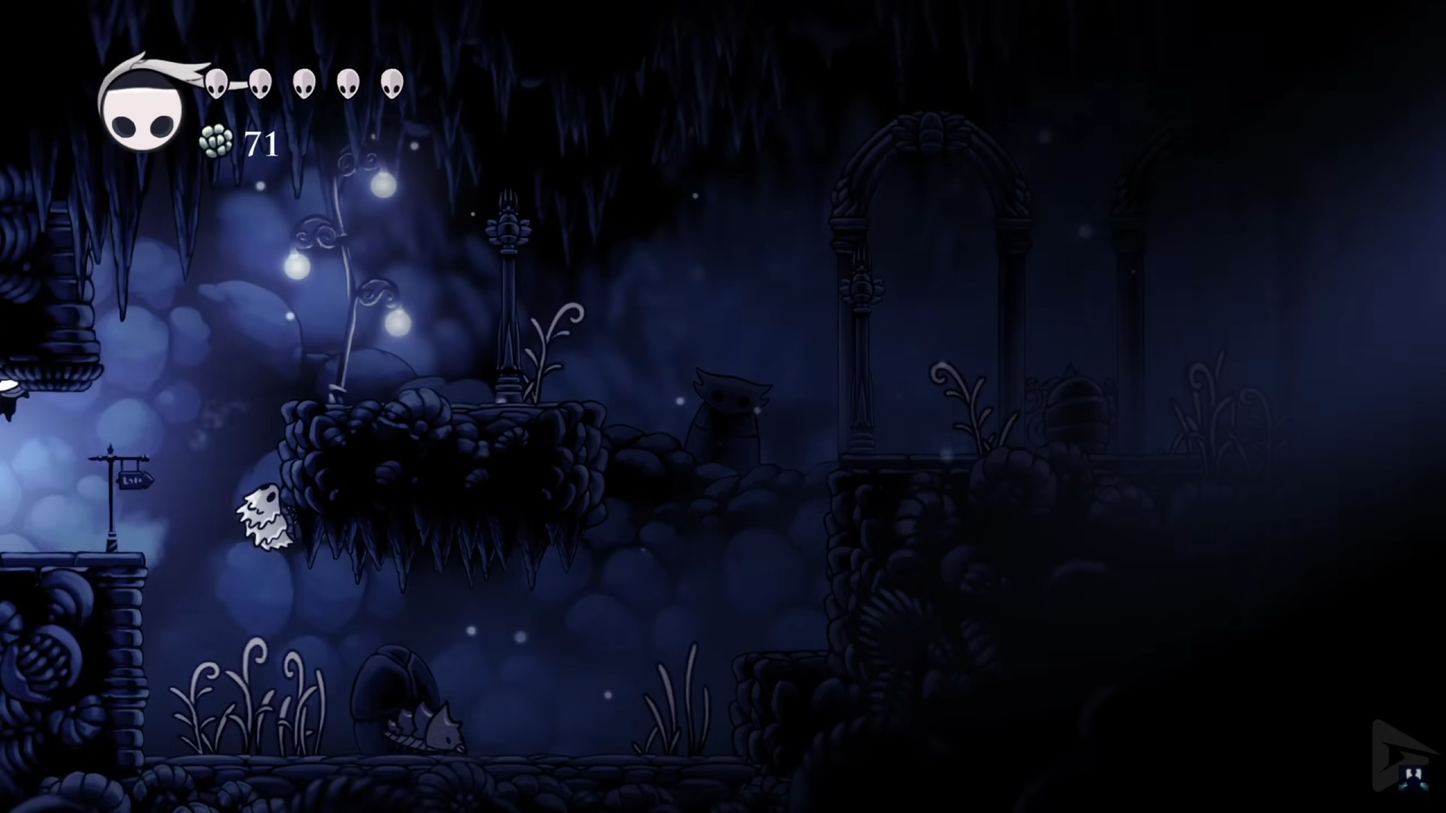HK: (0, 375, 26, 430)
